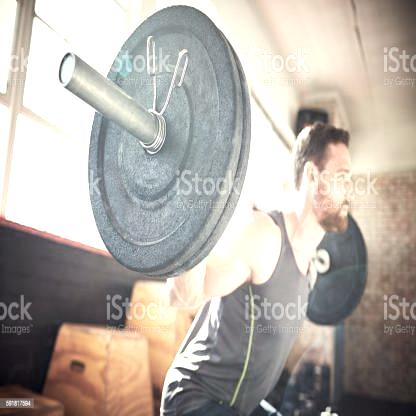Barbell: (52, 49, 85, 98)
